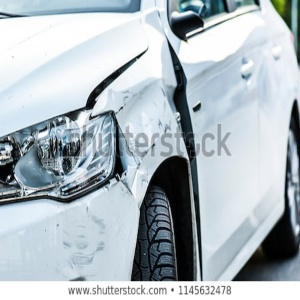bumper_scratch: (46, 206, 111, 280)
